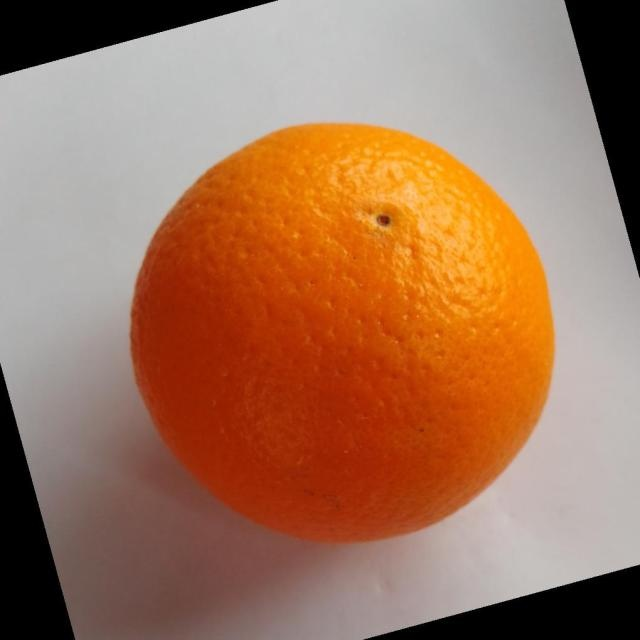agrume: (128, 120, 556, 544)
